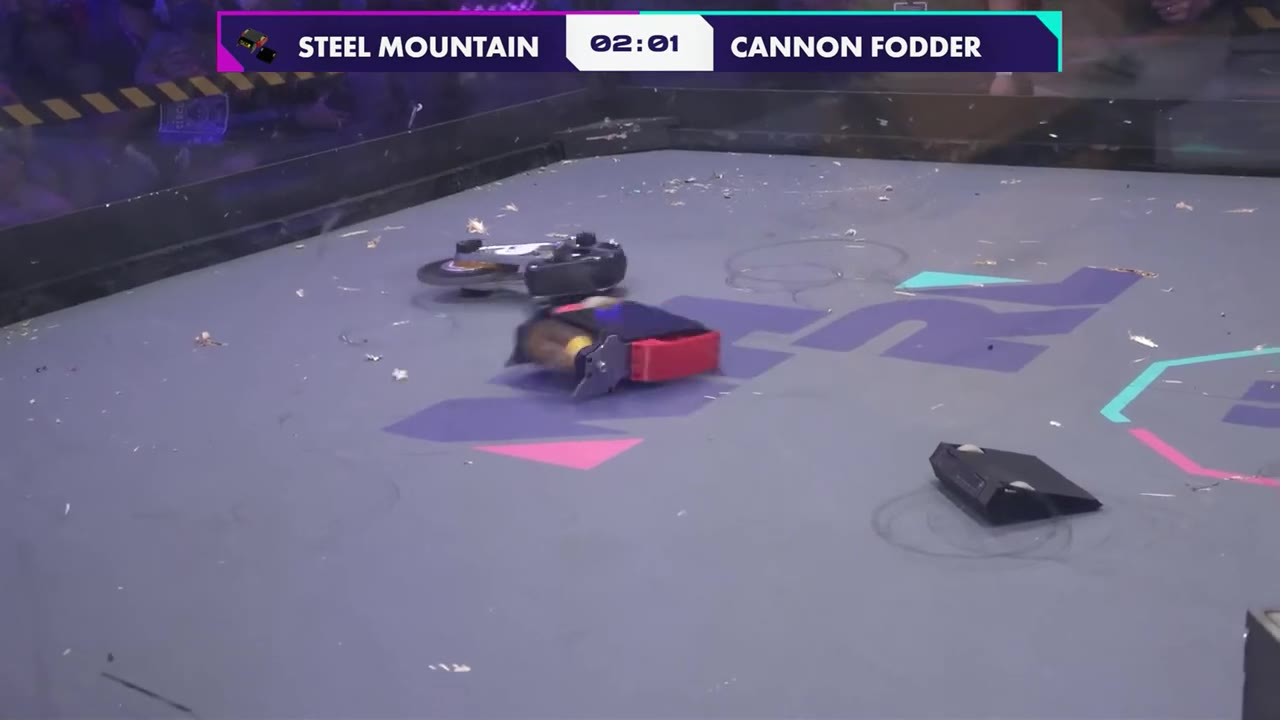combatbot: (502, 296, 725, 404), (417, 231, 629, 302)
housebot: (1242, 603, 1280, 720)
minibot: (926, 439, 1104, 526)
